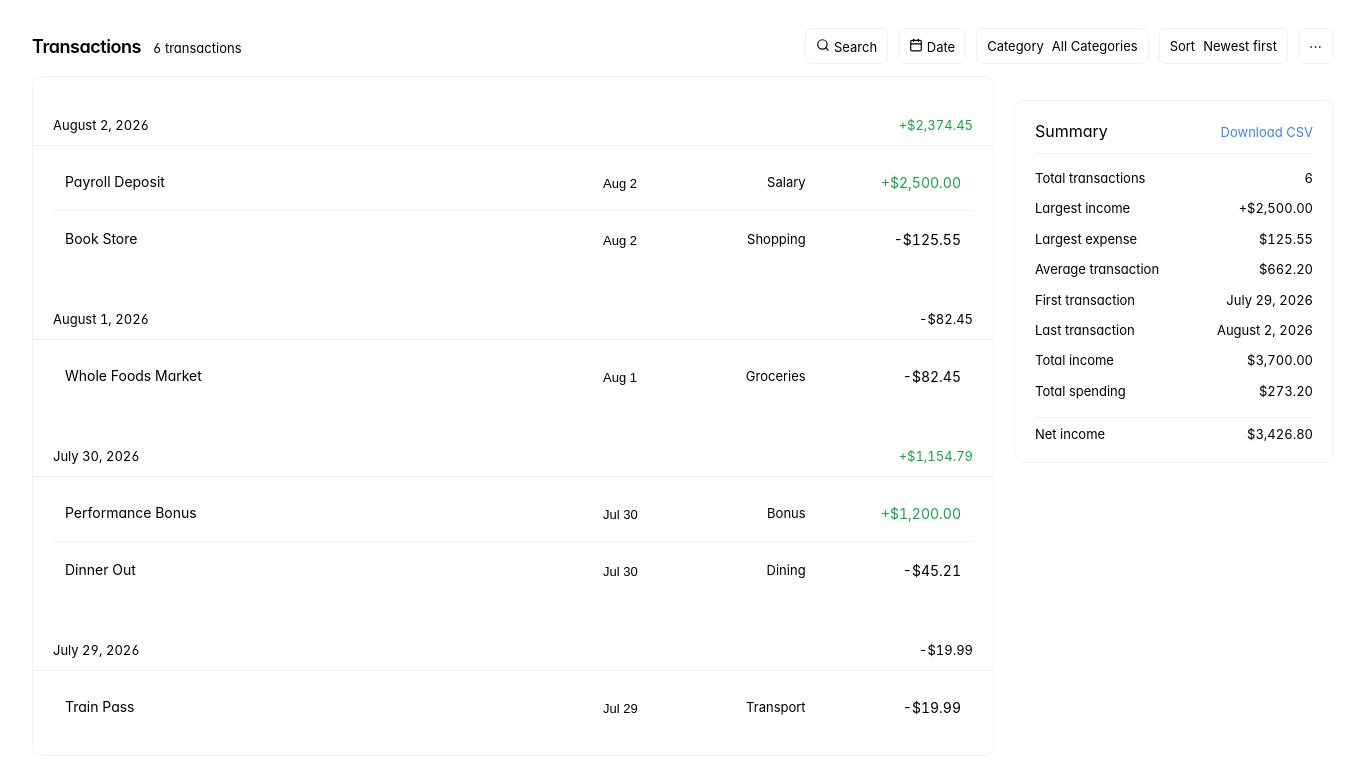
Scenario: Transactions › shows summary stats computed from filtered transactions
The image size is (1366, 768).
Click the button "Search" at {"x": 847, "y": 46}, box [805, 28, 888, 64]
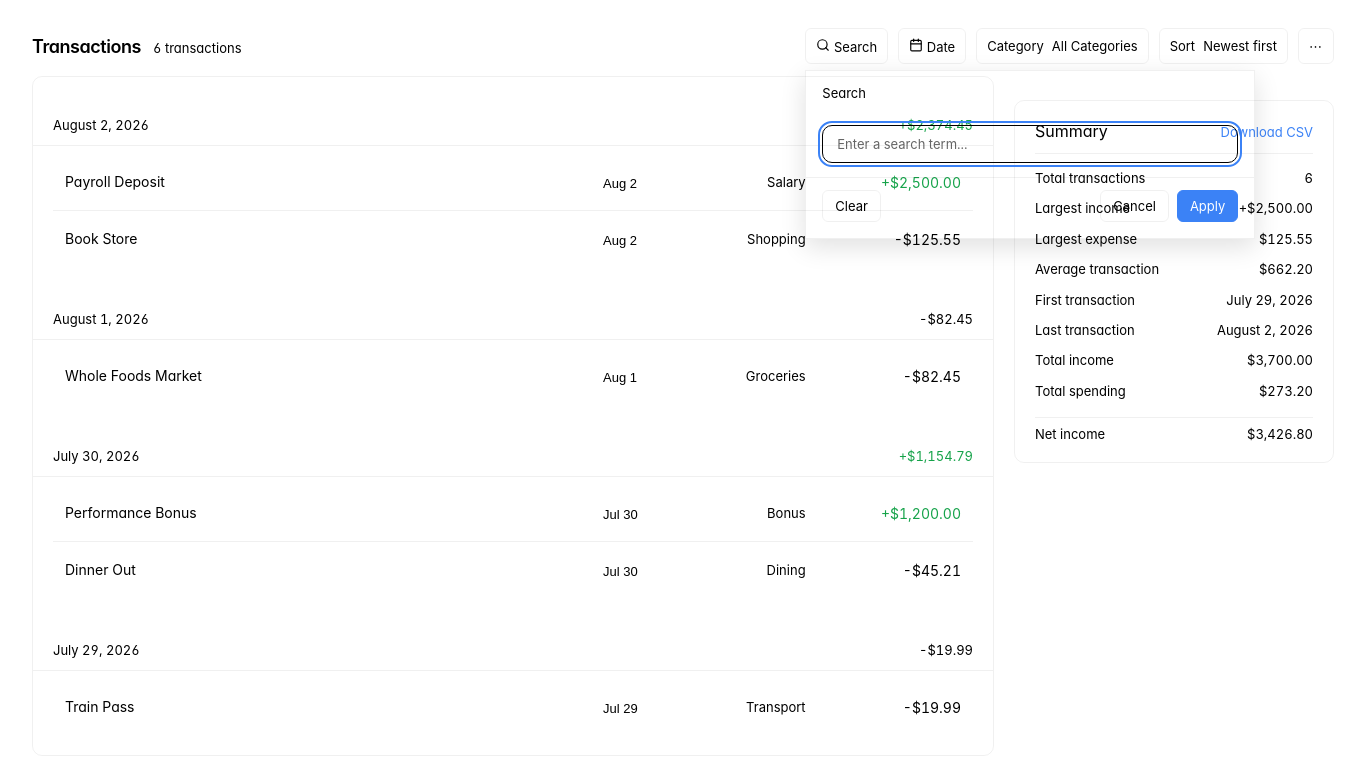
Type "train" into the search field named "Search transactions" at {"x": 1030, "y": 144}, box [822, 125, 1238, 163]
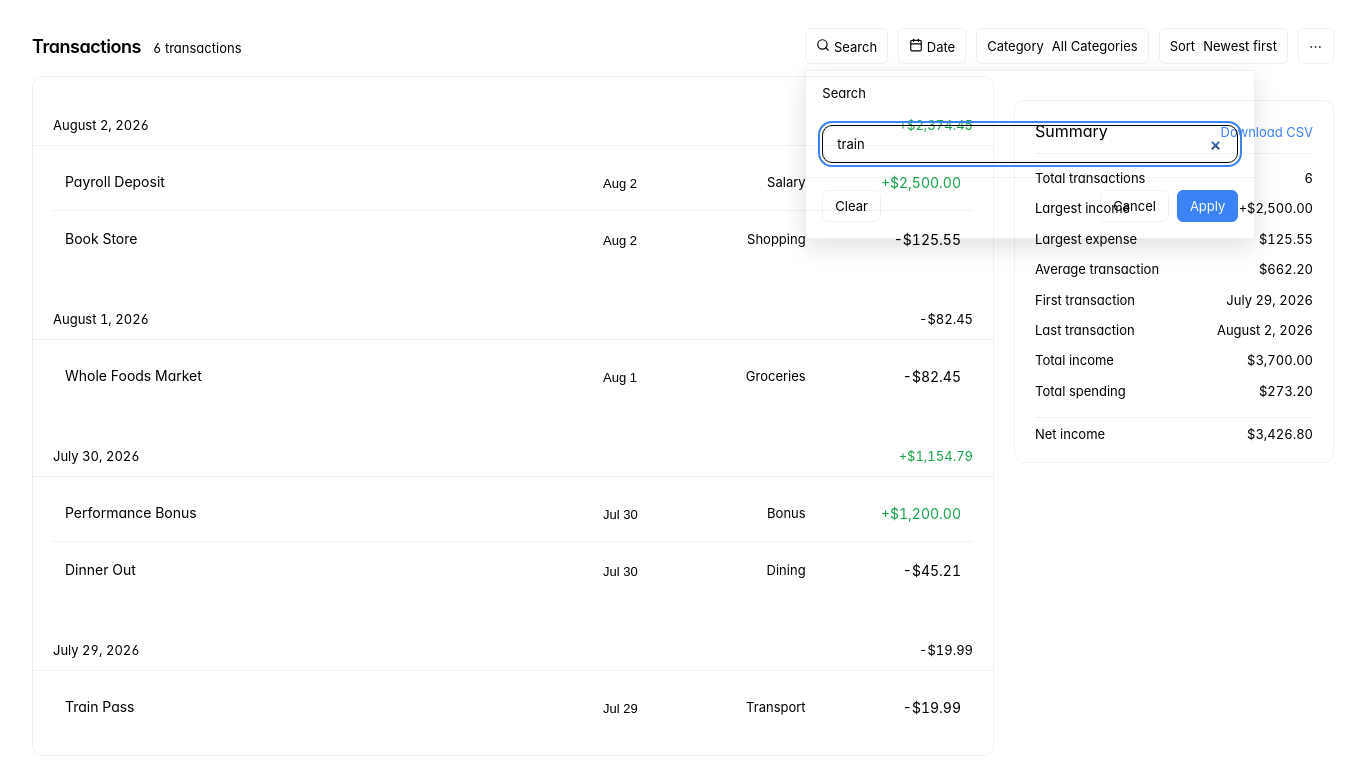
Click the button "Apply" at {"x": 1208, "y": 206}, box [1177, 190, 1238, 222]
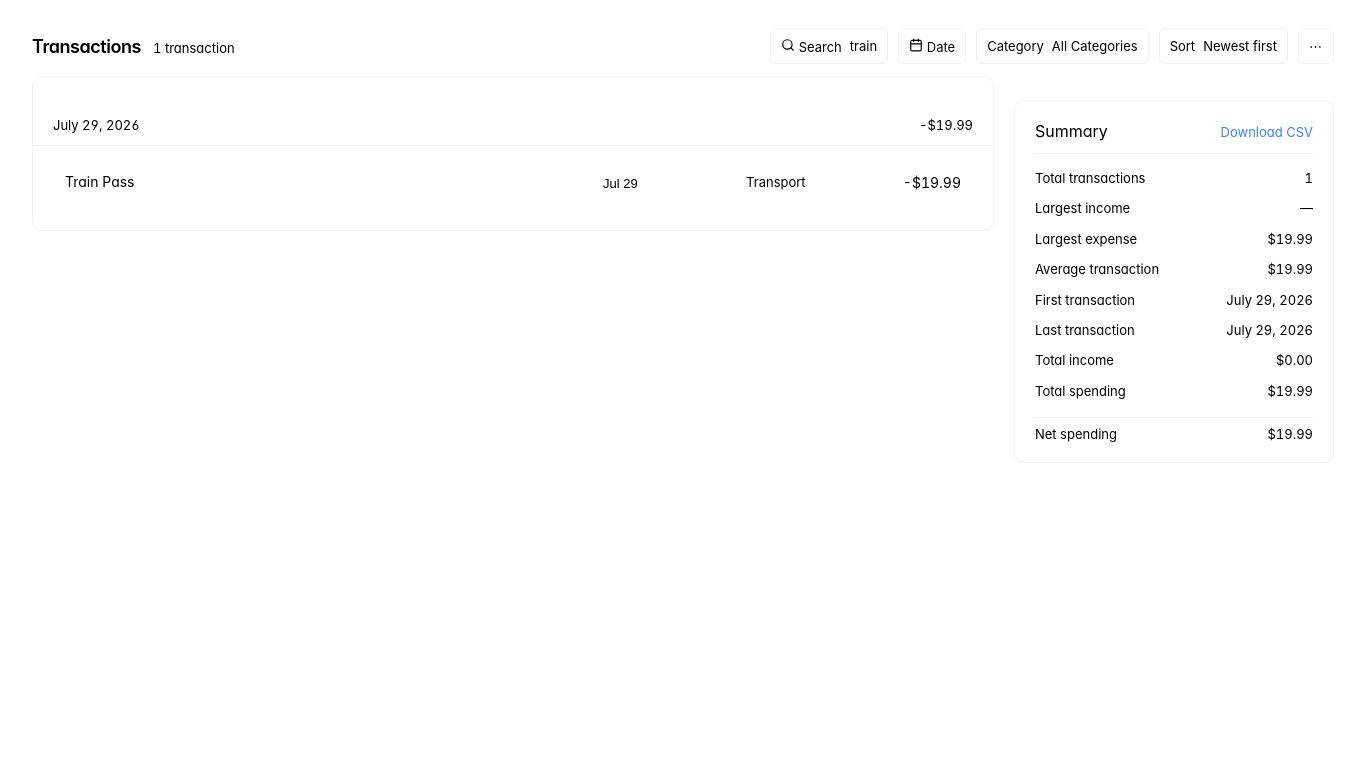
Check: the text "1" is shown, box [1305, 170, 1313, 186]
Check: the text "July 29, 2026" is shown 2 times, box [1226, 292, 1313, 308]; [1226, 322, 1313, 338]
Check: the text "$0.00" is shown, box [1276, 352, 1313, 368]
